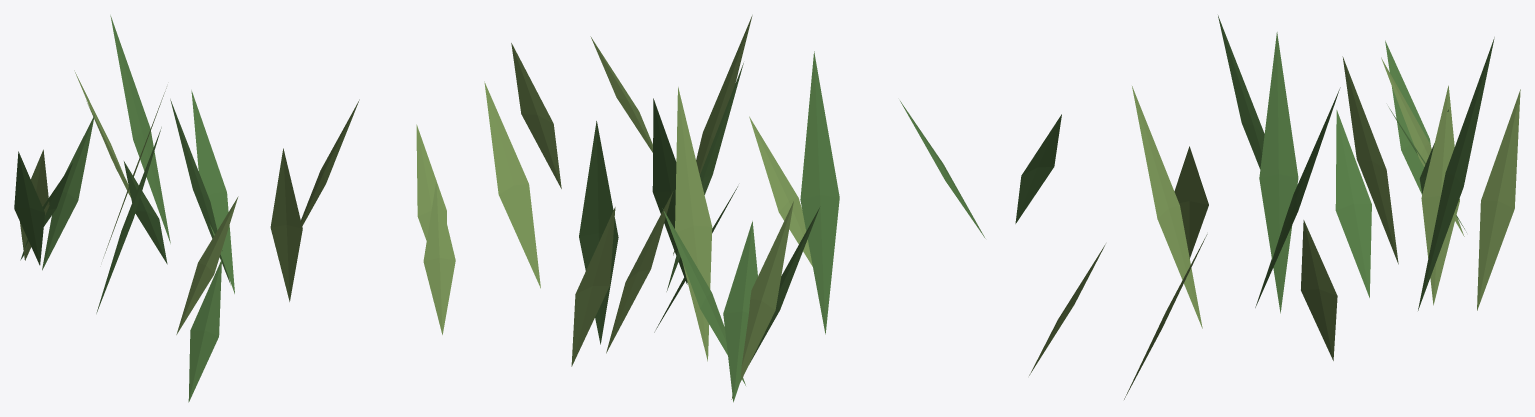
Rendered from vegetation-grass-tall.lod0.glb.
3 renders of one model, left to right at view 1: azimuth 30°, elevation 25°; view 2: azimuth 150°, elevation 25°; view 3: azimuth 270°, elevation 25°, orthographic. The views are drawn at different scales.
Parts seen in each view (by area): view 1: vegetation-grass-tall__body; view 2: vegetation-grass-tall__body; view 3: vegetation-grass-tall__body.
Part boxes in pixels (x1,y1,x2,y2): vegetation-grass-tall__body: [14, 15, 455, 402]; vegetation-grass-tall__body: [484, 15, 985, 402]; vegetation-grass-tall__body: [1015, 15, 1520, 399].
Bounding box in the file's own units: 1.08 × 0.657 × 1.16.
